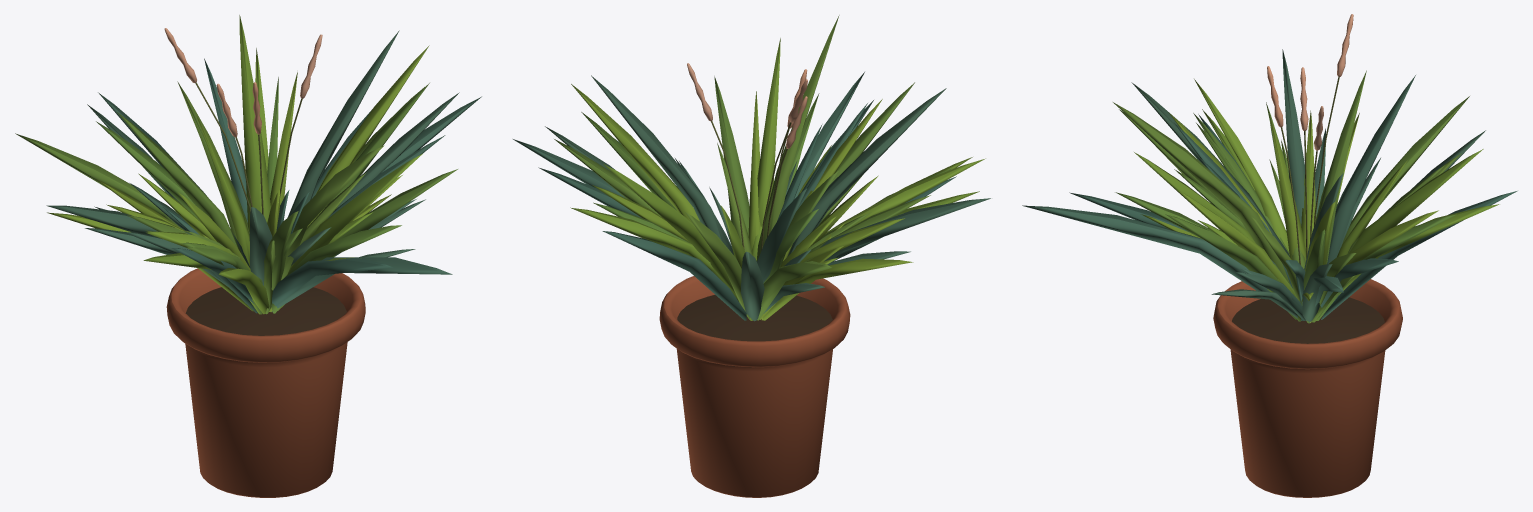
File: pot_grass.glb
The picture shows the model from 3 angles, left to right: view 1: azimuth 30°, elevation 25°; view 2: azimuth 150°, elevation 25°; view 3: azimuth 270°, elevation 25°; orthographic projection. The views are drawn at different scales.
Parts seen in each view (by area): view 1: Sammel Pflanze, Sammel Putz; view 2: Sammel Pflanze, Sammel Putz; view 3: Sammel Pflanze, Sammel Putz.
Boxes of the visible parts, box(x1,y1,x2,y2) form: Sammel Pflanze: box(15, 15, 481, 314); Sammel Putz: box(166, 82, 365, 497); Sammel Pflanze: box(513, 15, 990, 321); Sammel Putz: box(659, 121, 850, 497); Sammel Pflanze: box(1022, 14, 1517, 323); Sammel Putz: box(1213, 76, 1402, 497).
Bounding box in the file's own units: 1.3 × 1.18 × 1.26.
